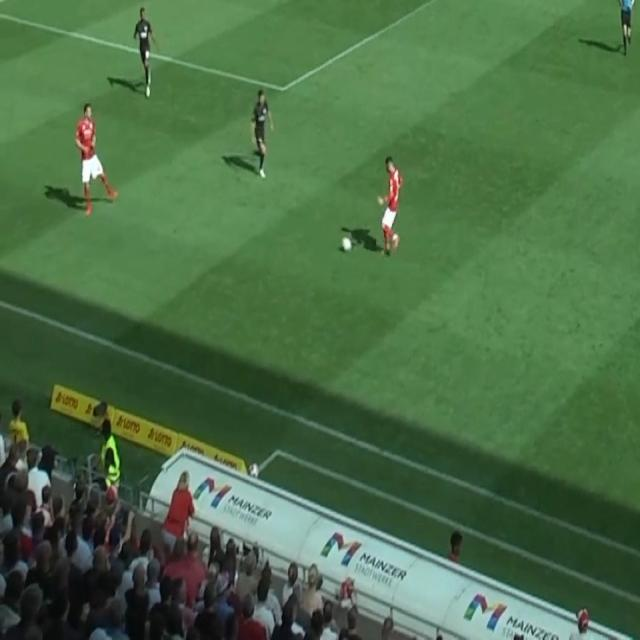ball: (341, 235, 352, 253)
